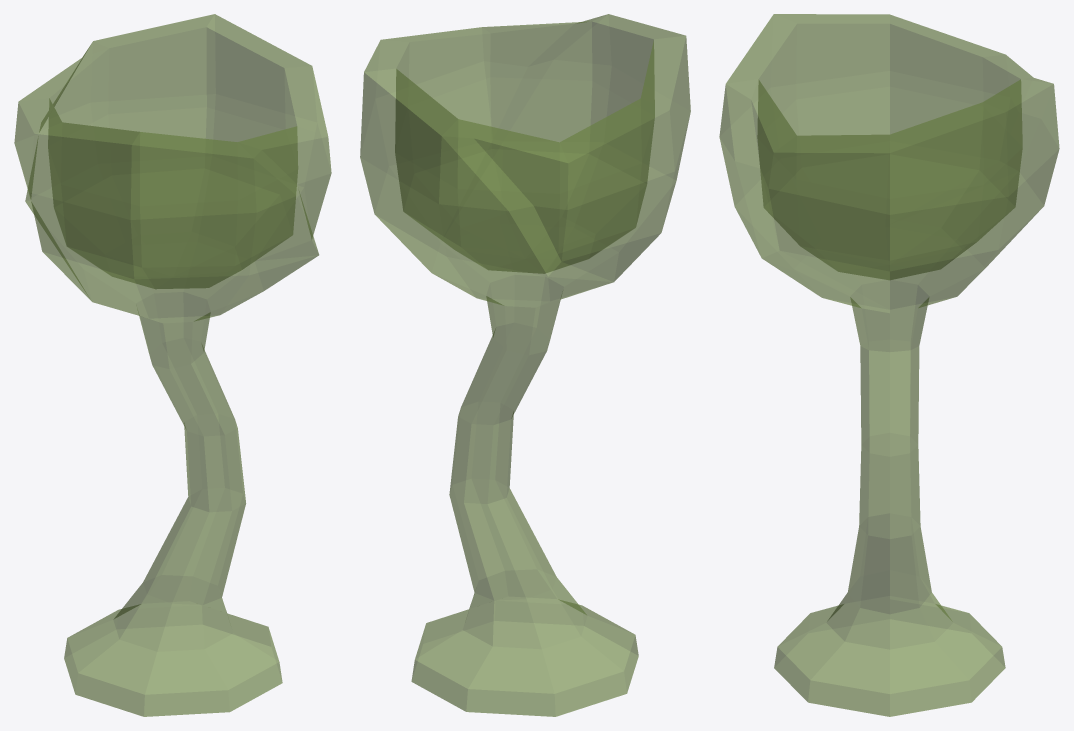
File: elven_SM_Item_Glass_02.gltf
3 views of the same model, side by side, from view 1: azimuth 30°, elevation 25°; view 2: azimuth 150°, elevation 25°; view 3: azimuth 270°, elevation 25° (orthographic). The views are drawn at different scales.
Visible parts, largest first — view 1: SM_Item_Glass_02; view 2: SM_Item_Glass_02; view 3: SM_Item_Glass_02.
Boxes of the visible parts, bbox=[...] form: SM_Item_Glass_02: bbox=[14, 14, 331, 716]; SM_Item_Glass_02: bbox=[360, 14, 690, 716]; SM_Item_Glass_02: bbox=[719, 14, 1059, 716].
Bounding box in the file's own units: 0.1295 × 0.2541 × 0.1295.
Materials: 1 (1 with a texture image).
